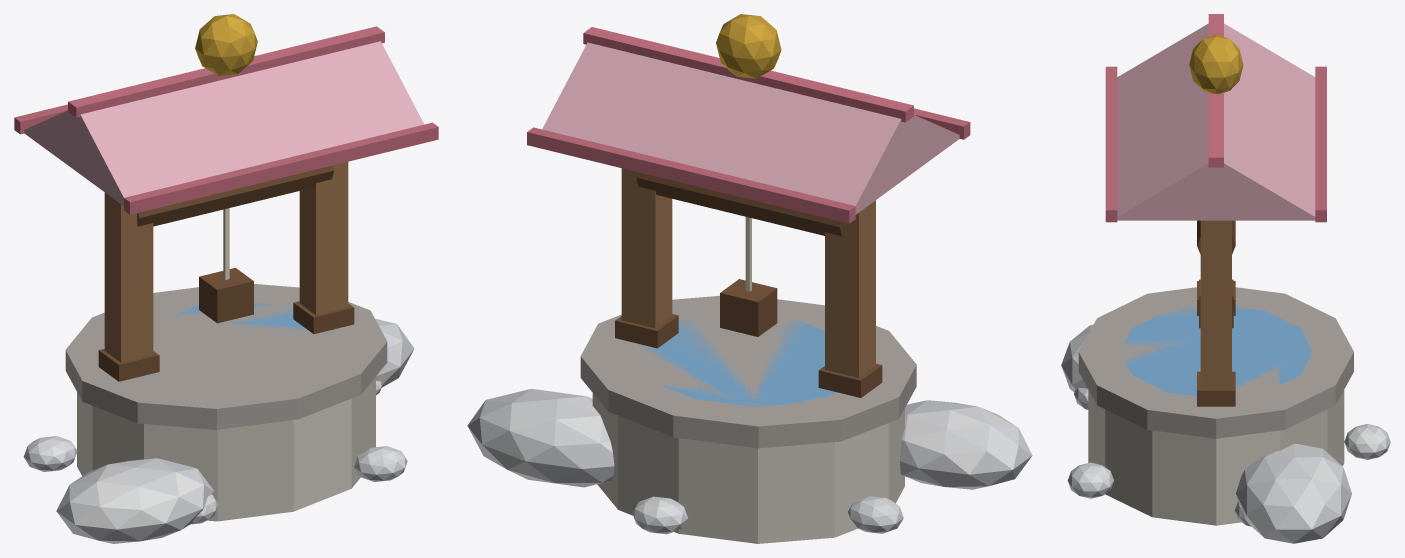
The model's file is Decor_CloudTemple_WishingWell.fbx.
The picture shows the model from 3 angles, left to right: view 1: azimuth 30°, elevation 25°; view 2: azimuth 150°, elevation 25°; view 3: azimuth 270°, elevation 25°; orthographic projection. The views are drawn at different scales.
Parts seen in each view (by area): view 1: WishingWell_Body; view 2: WishingWell_Body; view 3: WishingWell_Body.
Boxes of the visible parts, <box> form: WishingWell_Body: <box>14,14,438,543</box>; WishingWell_Body: <box>467,14,1032,543</box>; WishingWell_Body: <box>1061,14,1390,543</box>.
Bounding box in the file's own units: 10.8 × 10.7 × 7.5.
